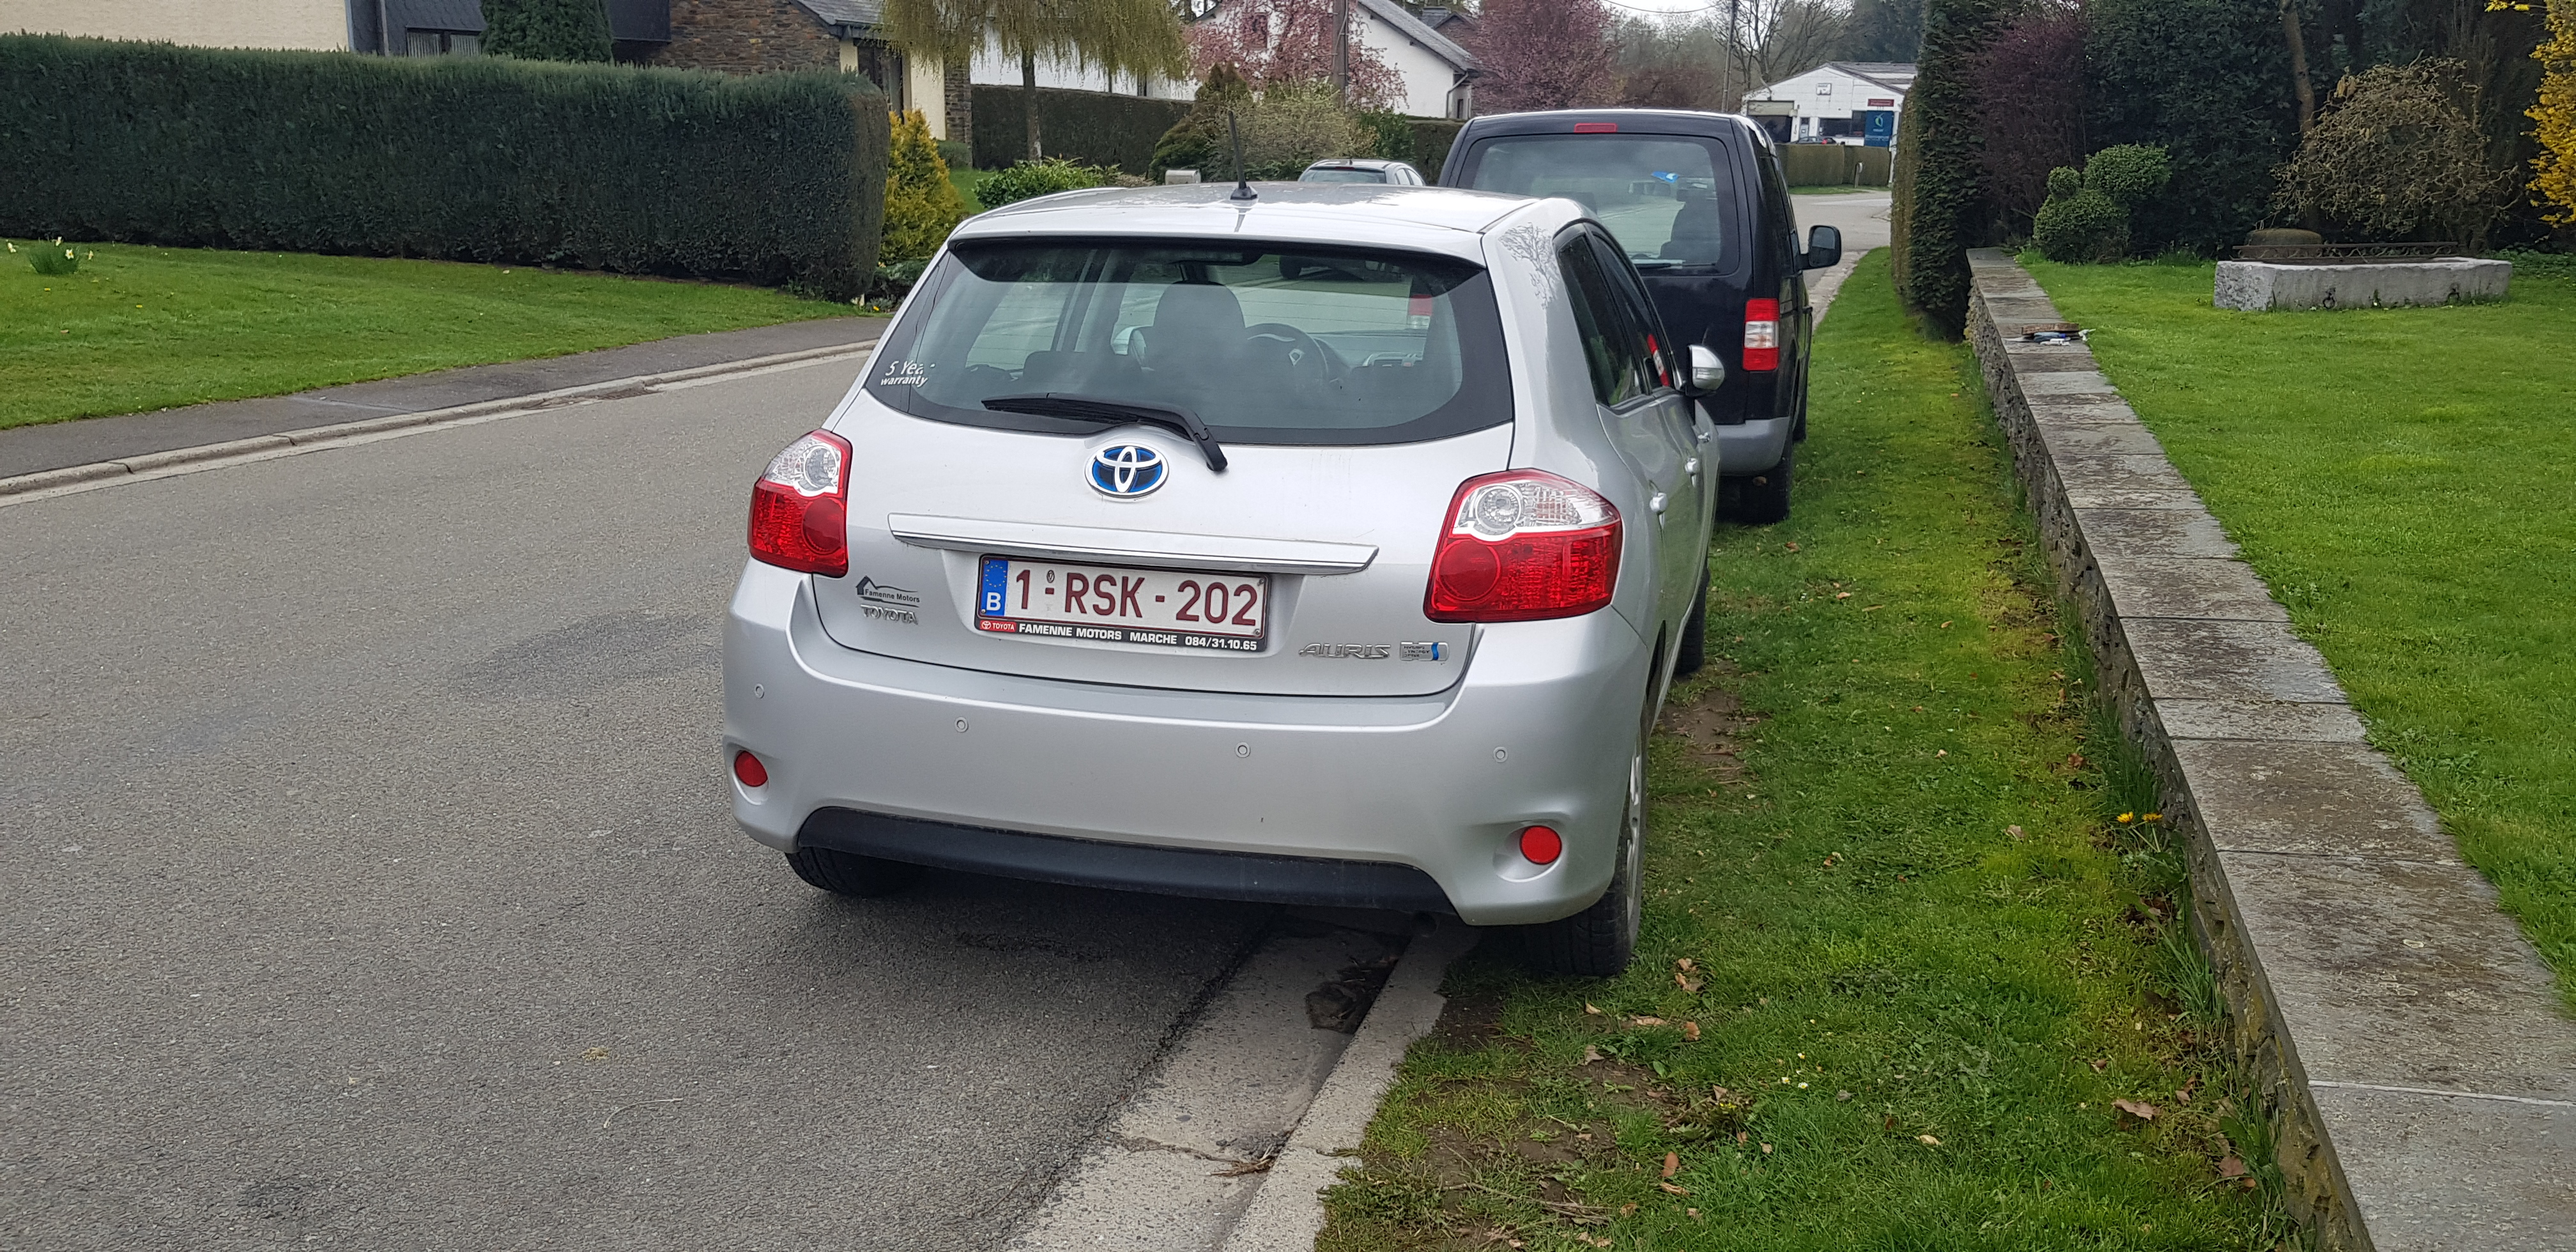licenceplate: (974, 553, 1276, 642)
